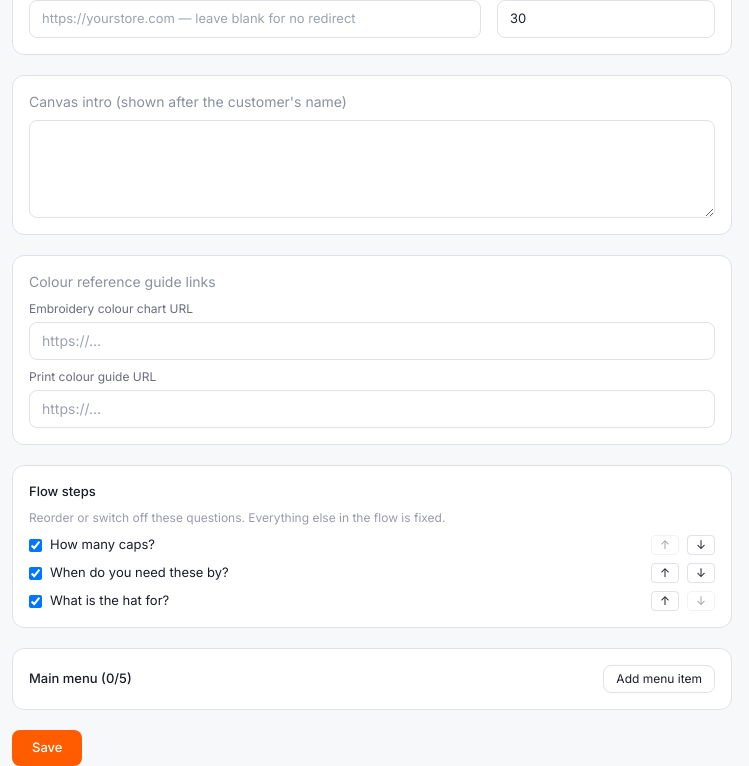
BrandingView › rejects a non-http url on save
This screenshot has width=749, height=766.
(page scrolled)
Click the button "Add menu item": coordinates (659, 679) [603,665,715,693]
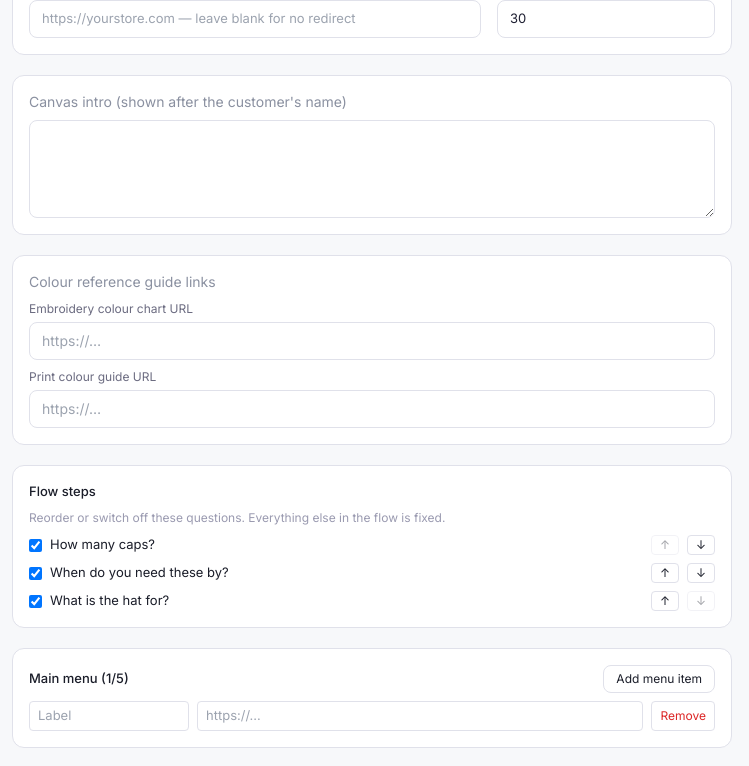
In the field with placeholder "Label": coordinates (109, 716) [29,701,189,730], type "Bad"
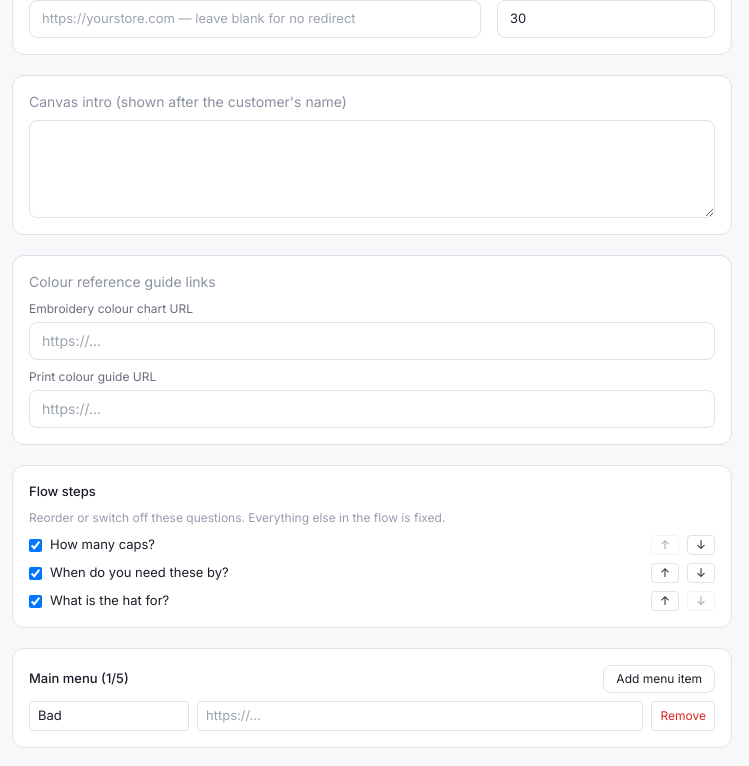
In the field with placeholder "https://…": coordinates (420, 716) [197,701,644,730], type "javascript:alert(1)"
(page scrolled)
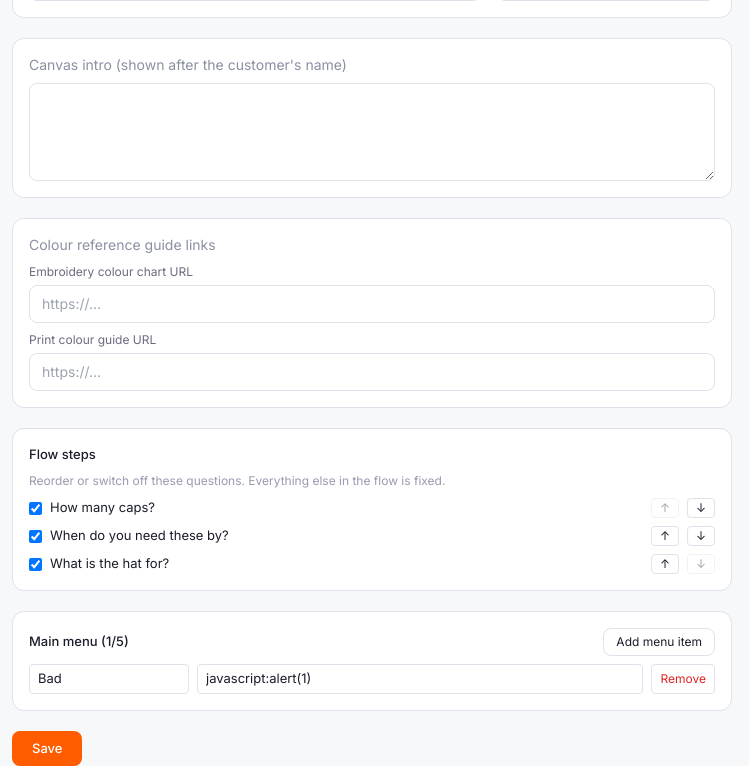
Click the button "Save": coordinates (47, 748) [12,730,82,765]
(page scrolled)
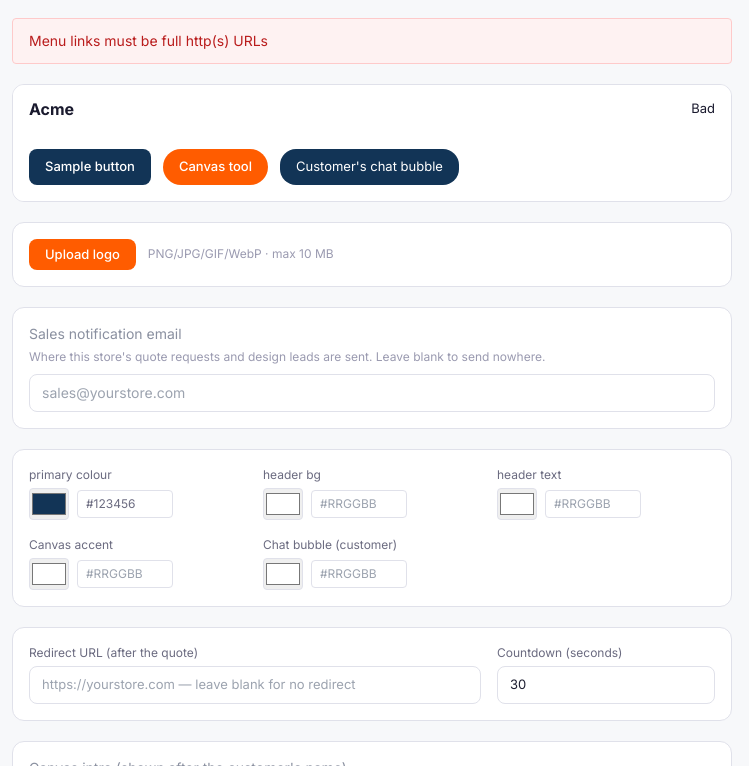
Now the text "Menu links must be full http(s) URLs" is shown, box [12,18,732,64]
